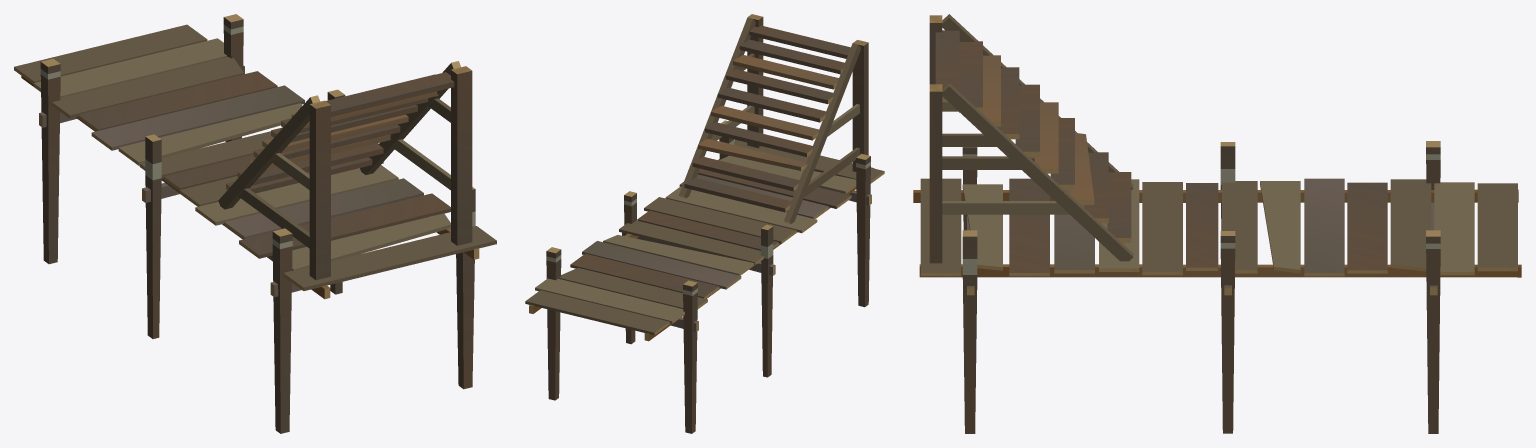
File: Dock_2_LOD1.fbx
The picture shows the model from 3 angles, left to right: view 1: azimuth 30°, elevation 25°; view 2: azimuth 150°, elevation 25°; view 3: azimuth 270°, elevation 25°; orthographic projection. The views are drawn at different scales.
Visible parts, largest first — view 1: polySurface9966; view 2: polySurface9966; view 3: polySurface9966.
Part boxes in pixels (box(x1,y1,x2,y2)): polySurface9966: box(14, 14, 496, 433); polySurface9966: box(525, 14, 884, 433); polySurface9966: box(913, 14, 1521, 433).
Bounding box in the file's own units: 400 × 637 × 1042.
